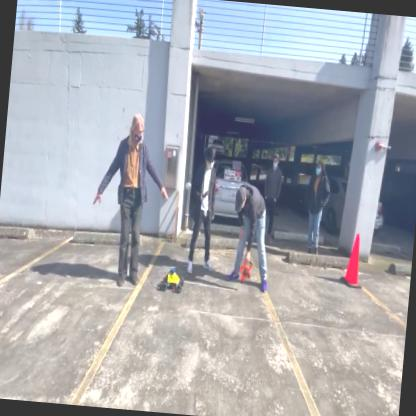cone: (340, 233, 366, 290)
mushr_car: (155, 260, 187, 298)
